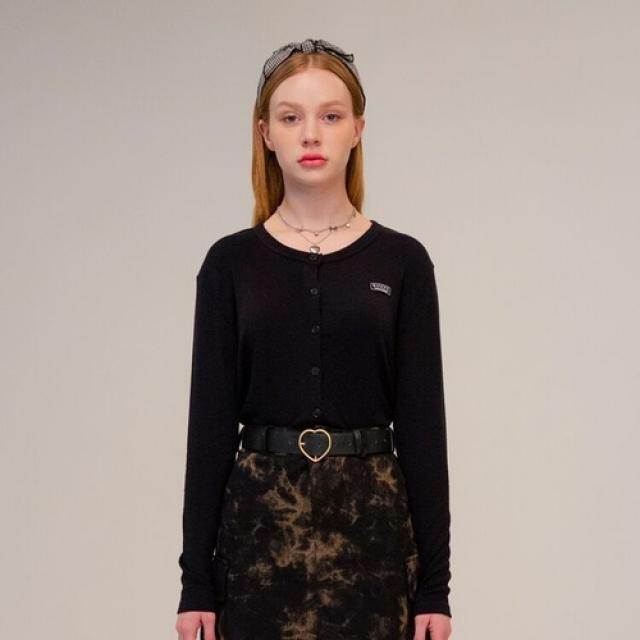dress: (175, 222, 454, 617)
